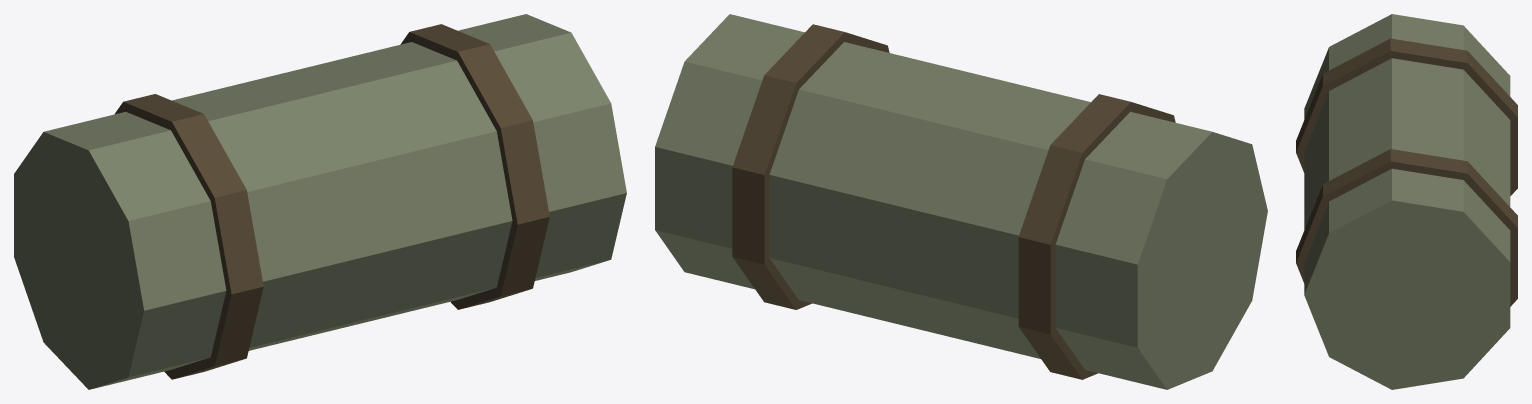
3 renders of one model, left to right at view 1: azimuth 30°, elevation 25°; view 2: azimuth 150°, elevation 25°; view 3: azimuth 270°, elevation 25°, orthographic. The views are drawn at different scales.
Parts seen in each view (by area): view 1: P04_捆扎铺盖卷; view 2: P04_捆扎铺盖卷; view 3: P04_捆扎铺盖卷.
Part boxes in pixels (x1,y1,x2,y2): P04_捆扎铺盖卷: [14, 14, 626, 389]; P04_捆扎铺盖卷: [655, 14, 1267, 389]; P04_捆扎铺盖卷: [1296, 14, 1517, 389].
Bounding box in the file's own units: 0.54 × 0.2757 × 0.2716.
